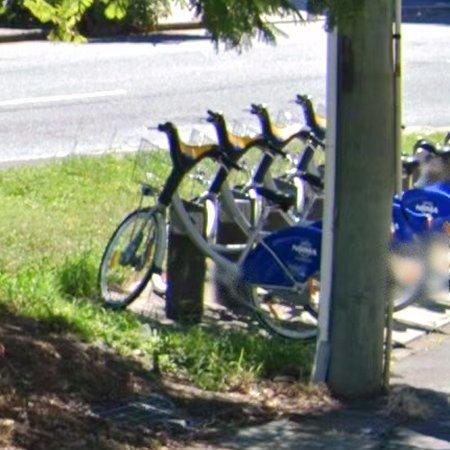bicycles: (99, 123, 322, 340)
